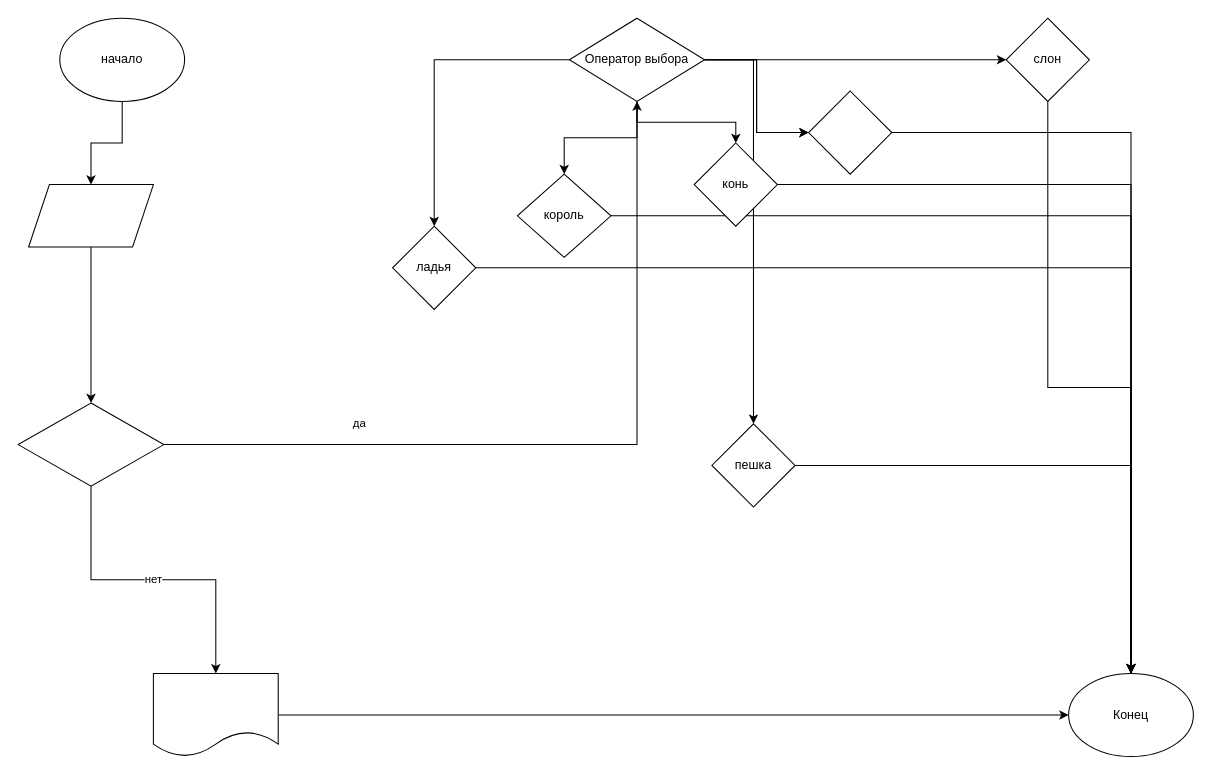
Some shapes in this 1212 by 775 pixel diagram are drawn without their labels. Here are the shapes that lost their labels. From the top down, the centre of each, then its label:
[850,132]: ферзь
[90,215]: Ввод K
[90,444]: K ≥ 1 И K ≤ 6
[215,714]: Вывод ошибка
